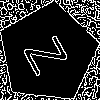Z: (23, 28, 77, 77)
